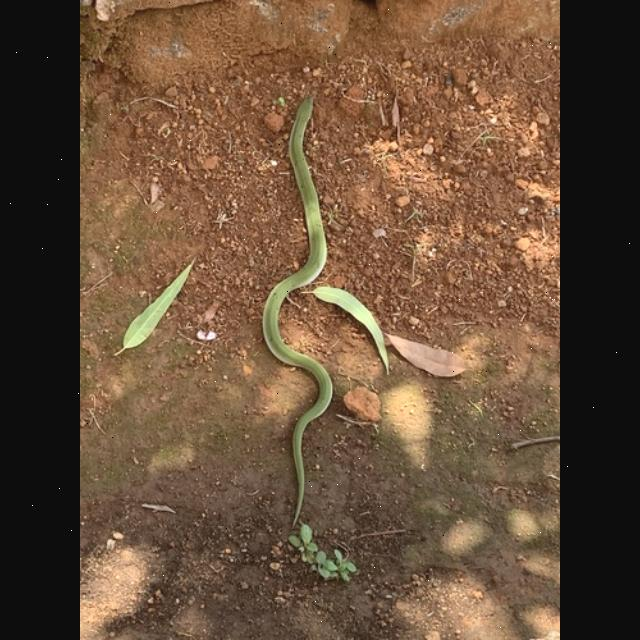snake: (260, 84, 330, 560)
